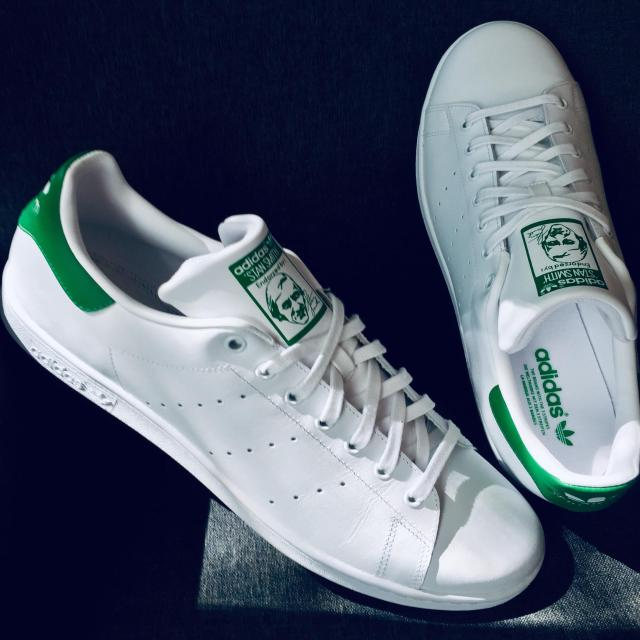shoe: (0, 141, 556, 624), (416, 16, 640, 506)
